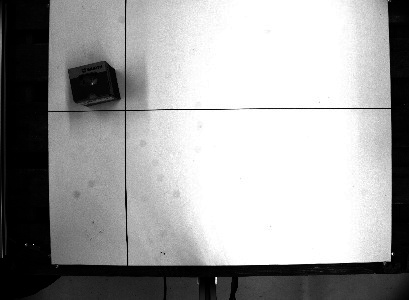b7: (64, 57, 122, 107)
